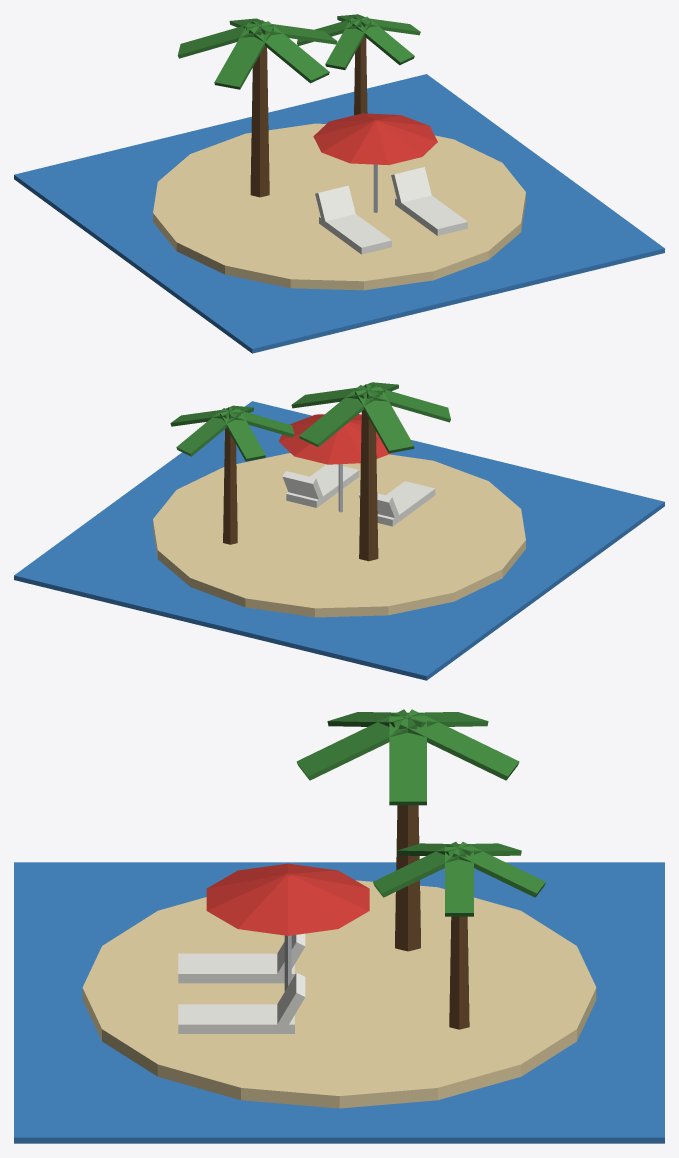
File: vacation.glb
3 views of the same model, one above another, from view 1: azimuth 30°, elevation 25°; view 2: azimuth 150°, elevation 25°; view 3: azimuth 270°, elevation 25° (orthographic). The views are drawn at different scales.
Parts seen in each view (by area): view 1: vacation; view 2: vacation; view 3: vacation.
Part boxes in pixels (x1,y1,x2,y2): vacation: [14, 14, 664, 353]; vacation: [14, 382, 664, 680]; vacation: [14, 709, 664, 1143].
Size of the model in its own units: 1.9 by 0.8144 by 1.9.
